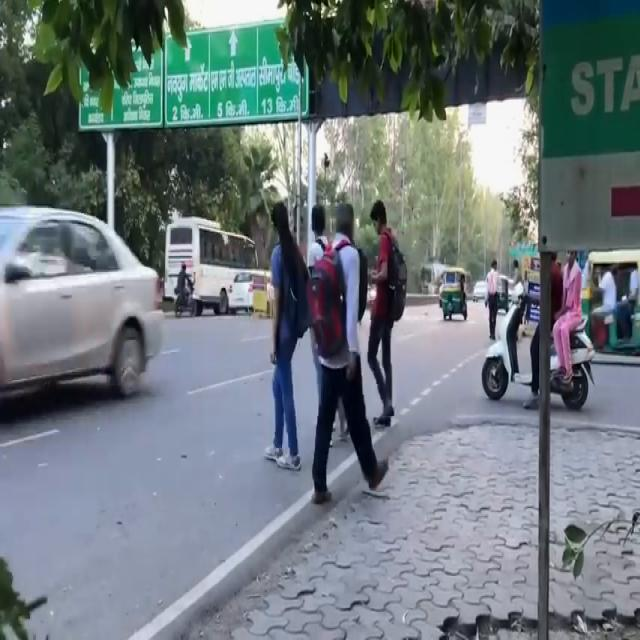BUS: (162, 217, 264, 317)
MOTORCYCLE: (478, 290, 595, 412)
SED: (0, 208, 157, 404)
